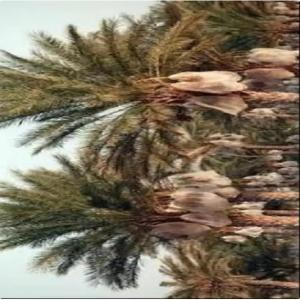palm tree: (0, 2, 298, 293)
